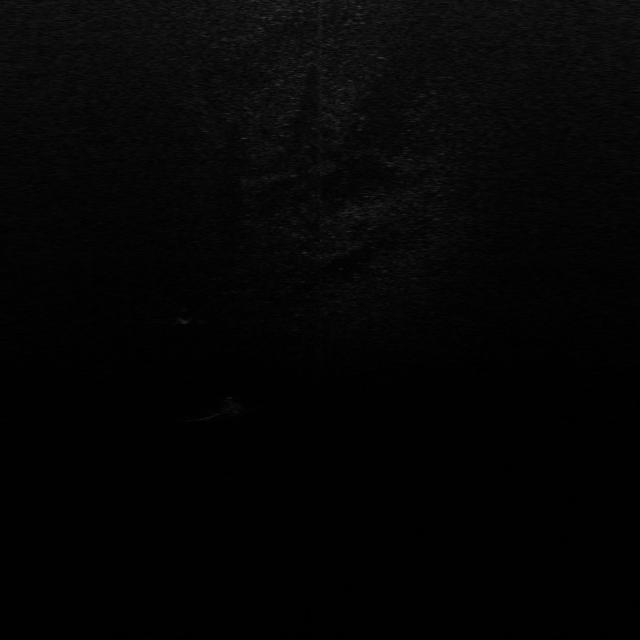ball: (214, 393, 250, 418)
circle cage: (172, 307, 198, 325)
